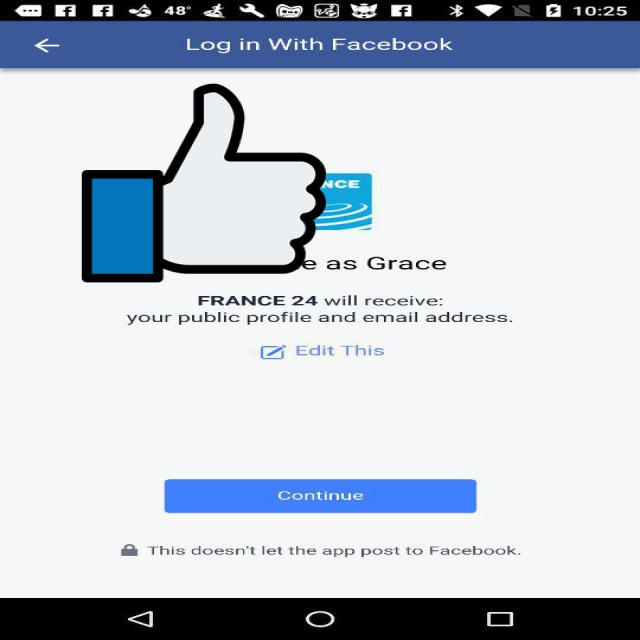privacy zuckering: (82, 79, 326, 287)
